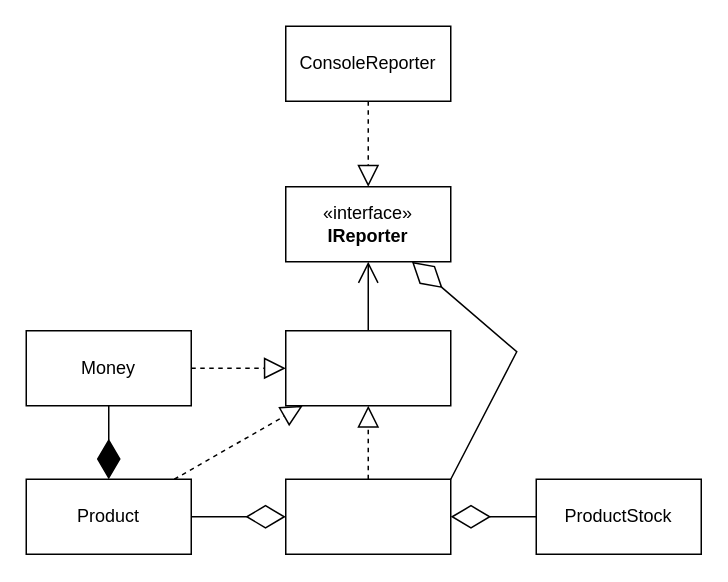
Image size: 728x582. Some labels were removed from this diagram. Each missing label, with the centre of its shape:
"Reportable" belongs at (367,367).
"Storage" belongs at (367,516).
